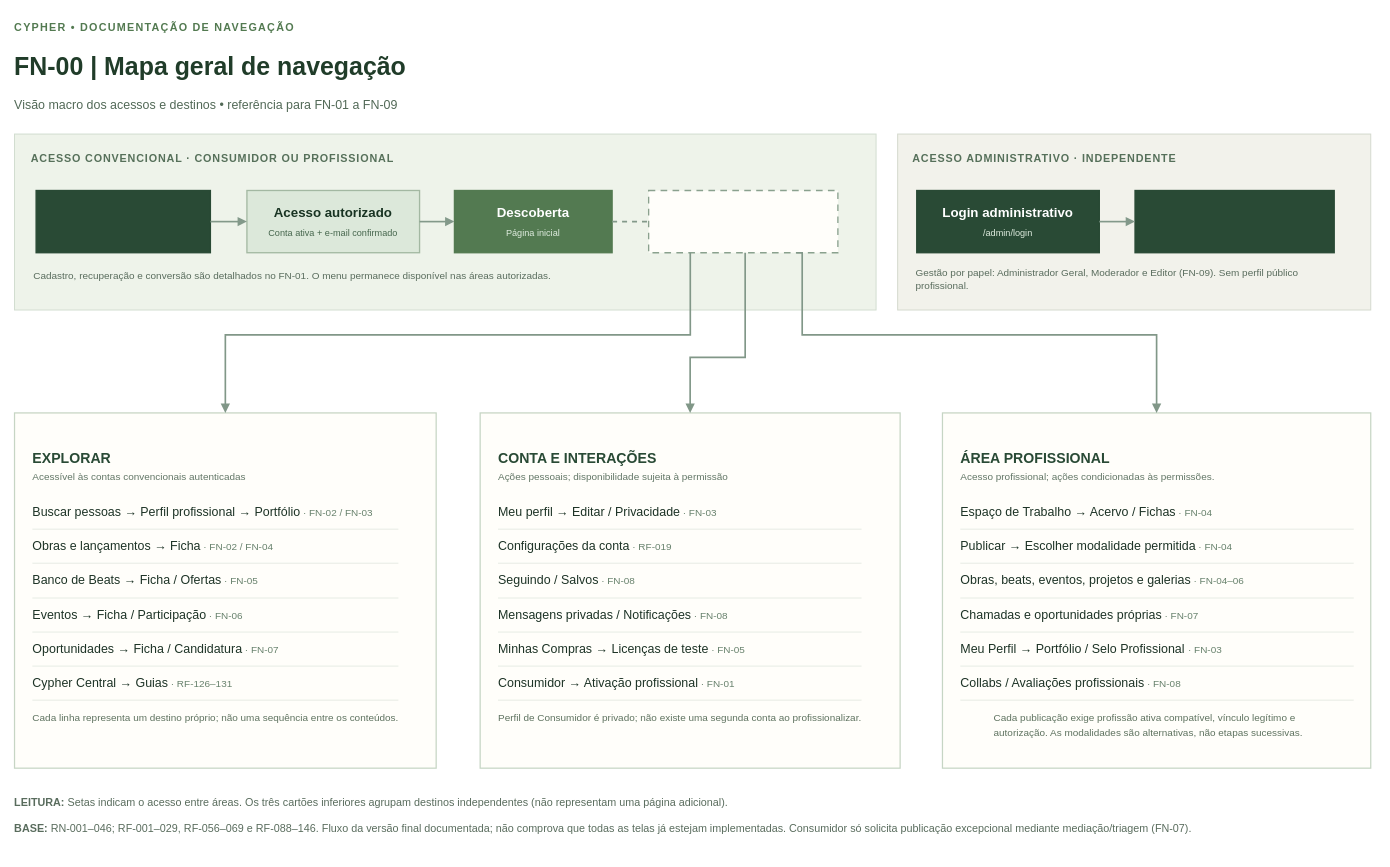
Image size: 1390x867. Some labels were removed from this diagram. Each missing label, with the box of its shape:
Login / Cadastro /login • /register: (35, 189, 211, 253)
Navegação Global Sidebar / barra inferior acesso persistente: (648, 189, 838, 253)
Painel administrativo /admin: (1134, 189, 1334, 253)
